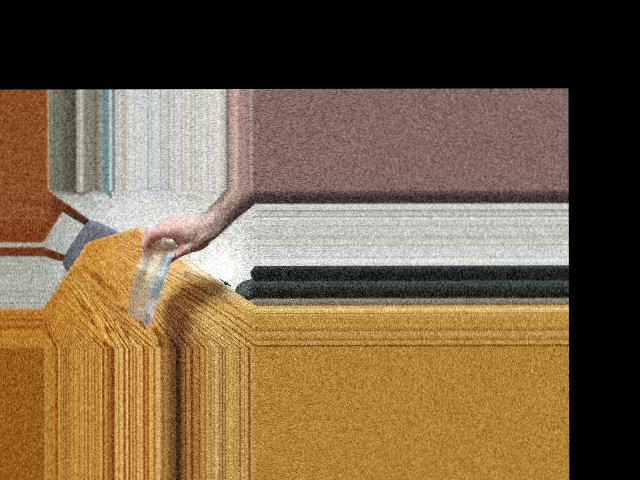cheese: (131, 229, 166, 326)
